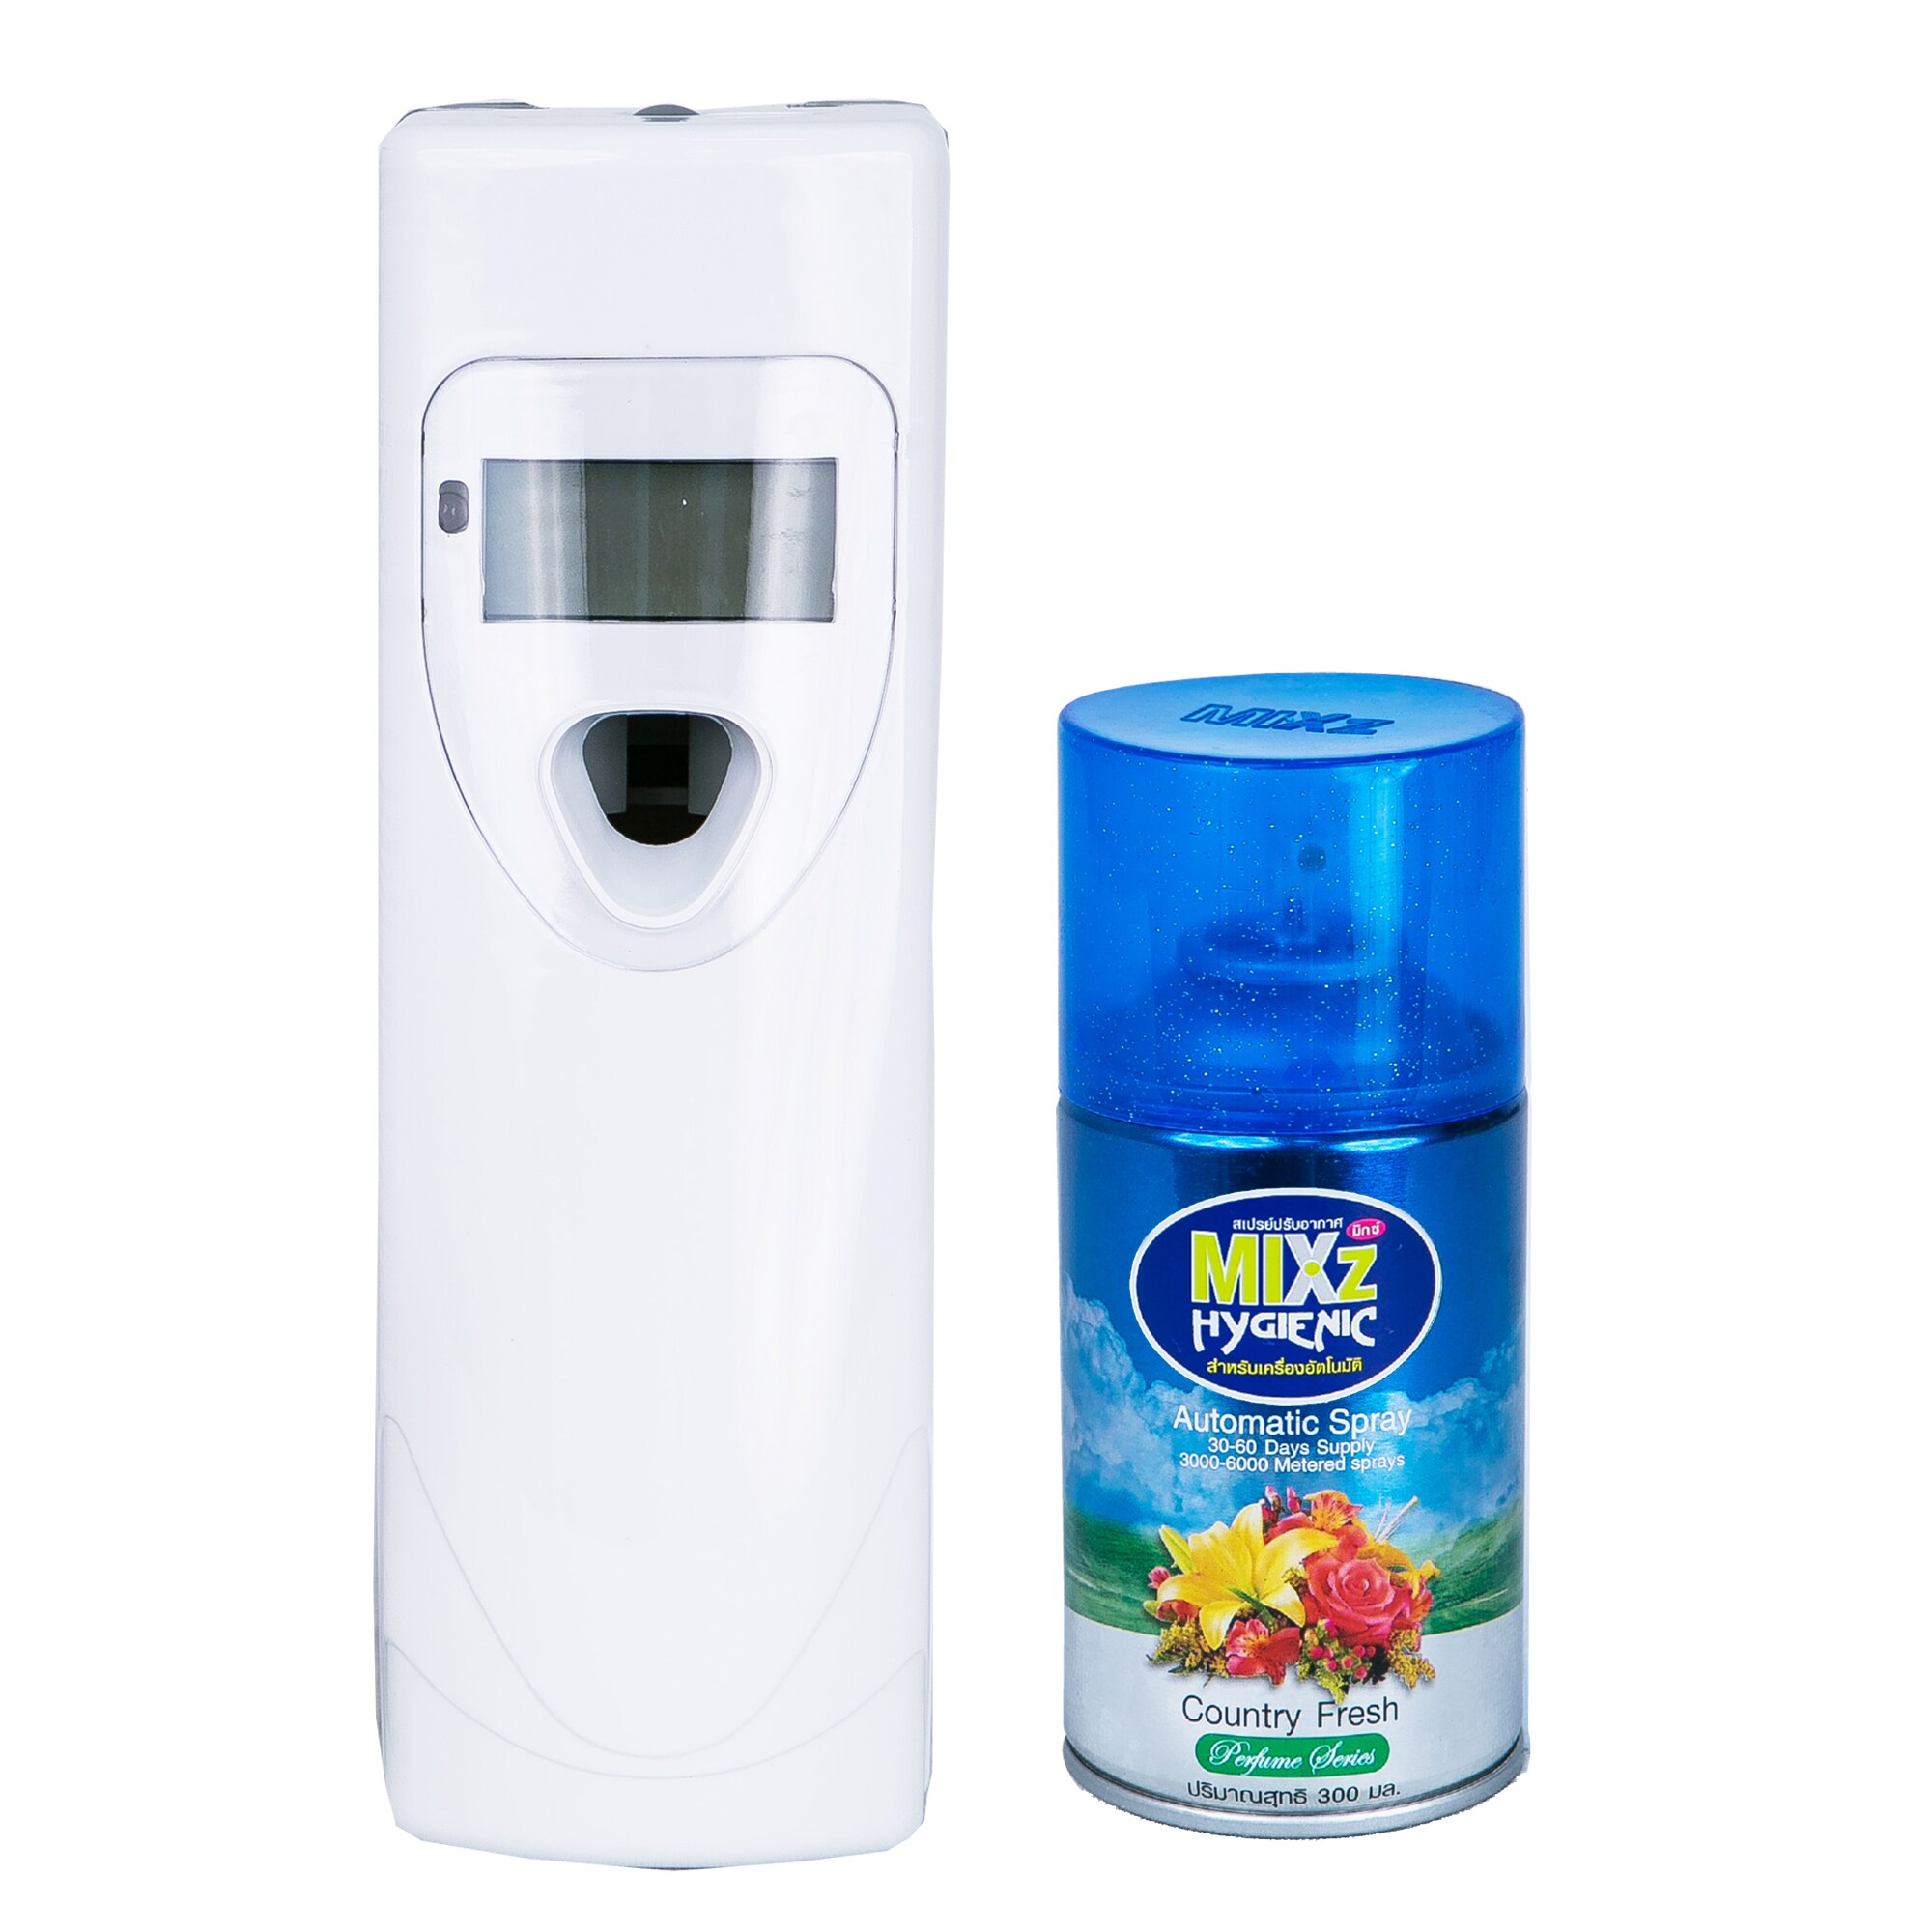Aerosol_cans: (1030, 656, 1545, 1856)
